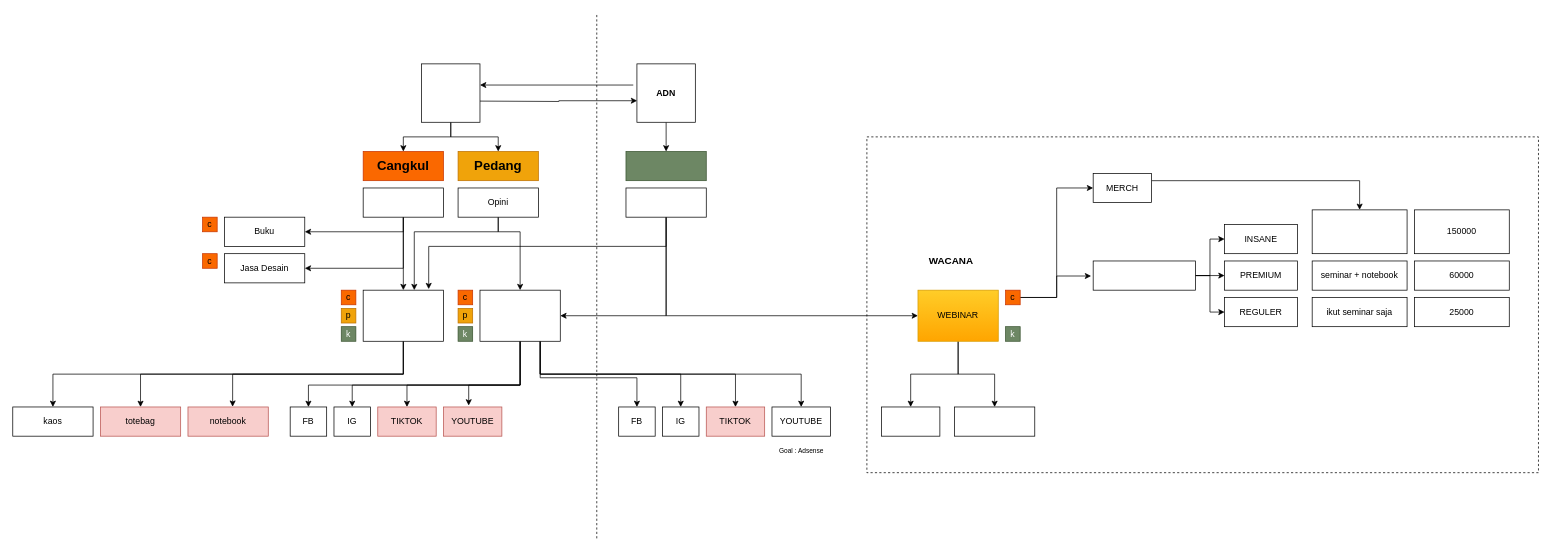
This 1551x552 diagram has some shape labels left out. The centre of each missing label's shape, as x and y in pixels:
BAHNOO: (x=450, y=92)
BIAYA PENDAFTARAN: (x=1143, y=275)
Desain: (x=402, y=315)
Edukasi: (x=665, y=202)
Keris: (x=665, y=166)
Konten: (x=519, y=315)
KURSUS: (x=910, y=421)
PENGETAHUAN: (x=994, y=421)
Produk: (x=402, y=202)
seminar + notebook + kaos desain aksara nama peserta: (x=1359, y=231)
